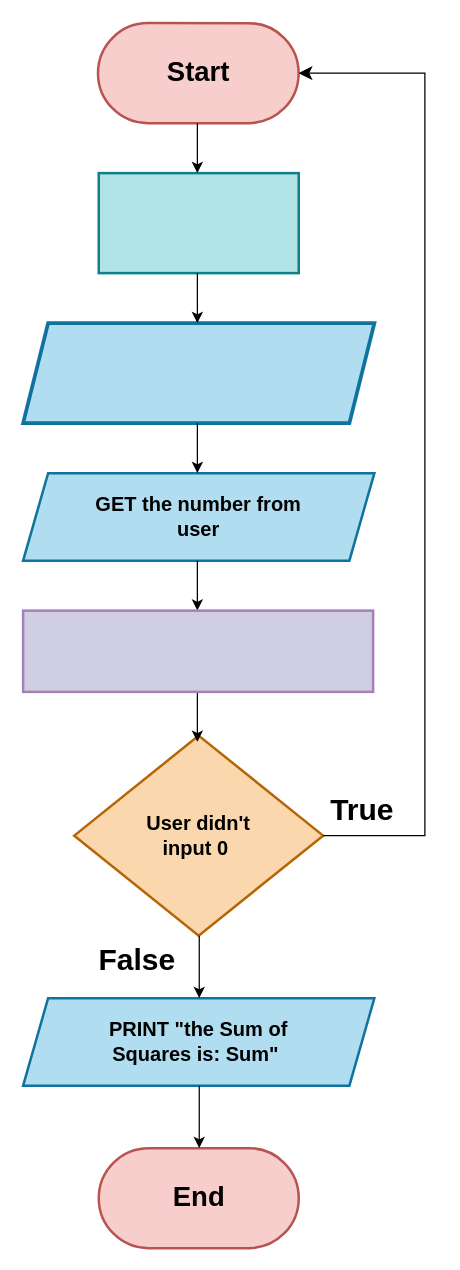
This 460x1270 diagram has some shape labels left out. Here are the shapes that lost their labels. From the top down, the box of each, then its label:
(97, 171, 299, 274): Init Sum = 0
(21, 321, 376, 424): PRINT " Input a number or type 0 to get the sum of squares"
(21, 609, 374, 692): CALCULATE the number of squares
